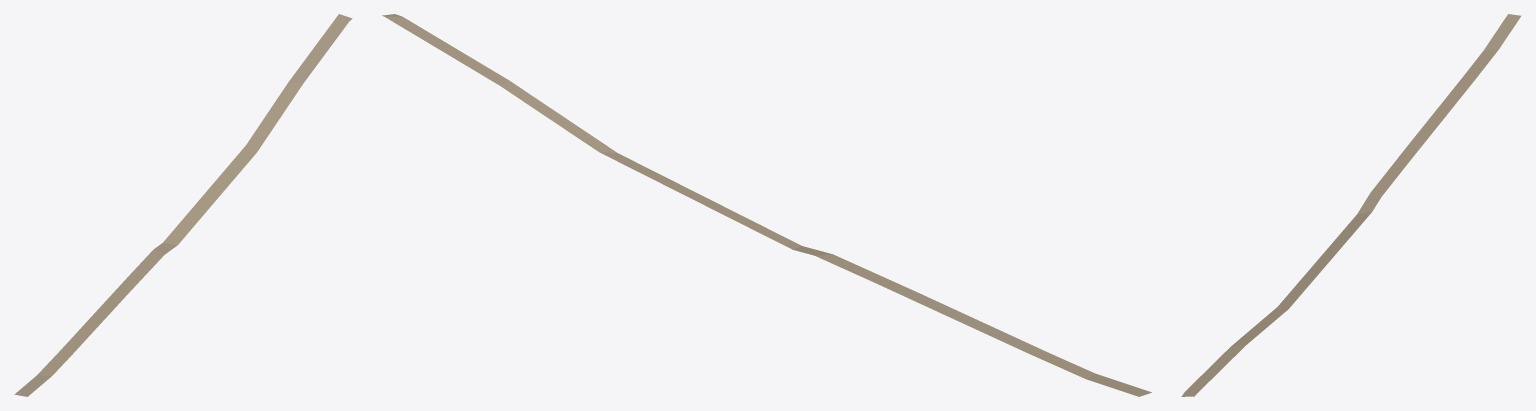
File: farm_15_25_track.glb
3 views of the same model, side by side, from view 1: azimuth 90°, elevation 25°; view 2: azimuth 150°, elevation 25°; view 3: azimuth 270°, elevation 25° (orthographic). The views are drawn at different scales.
Parts seen in each view (by area): view 1: geometry_0; view 2: geometry_0; view 3: geometry_0.
Part boxes in pixels (x1,y1,x2,y2): geometry_0: (14,14,352,396); geometry_0: (382,14,1151,396); geometry_0: (1181,14,1521,396).
Bounding box in the file's own units: 208 × 6.42 × 77.9.
